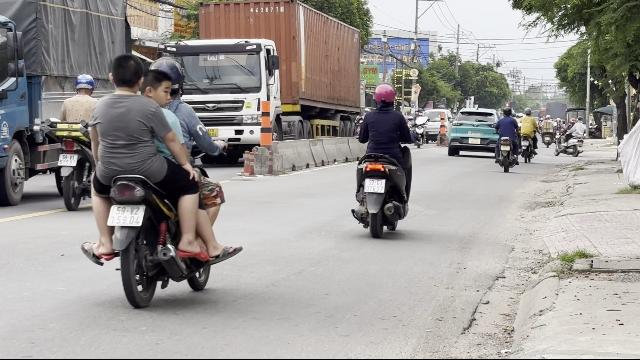helmet: (150, 56, 184, 100), (372, 84, 396, 108), (74, 74, 96, 94)
licenseplate: (108, 206, 144, 226), (364, 179, 386, 193), (58, 154, 76, 166)
motorcyclist: (78, 53, 234, 309), (347, 83, 415, 237), (52, 73, 98, 209)
nohelmet: (108, 54, 146, 92), (141, 70, 173, 106)
